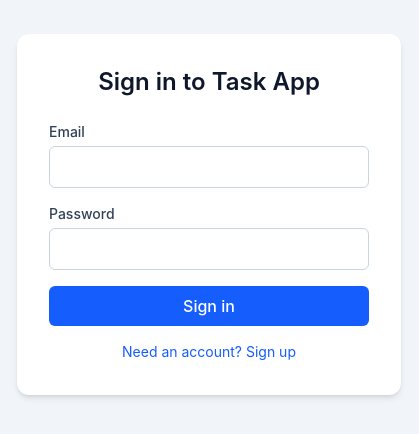
Login › blocks an empty submit with a local validation error
This screenshot has width=419, height=434.
Click the button with test id "login-submit": (209, 306) [49, 286, 369, 326]
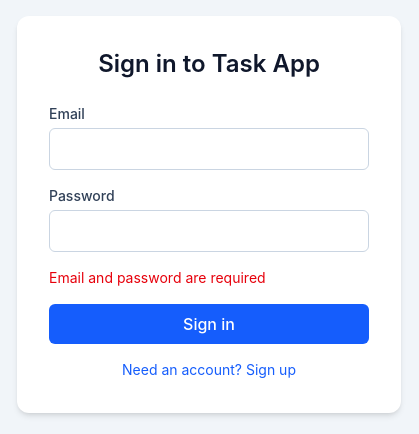
Check: the message with test id "login-error" reads "Email and password are required", box [49, 268, 266, 286]
